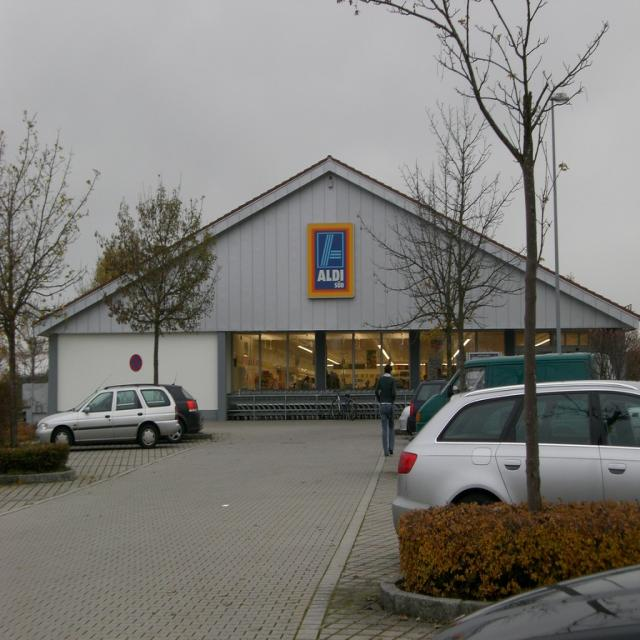aldi: (309, 224, 354, 297)
